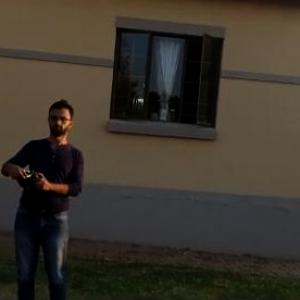follow: (0, 87, 89, 299)
